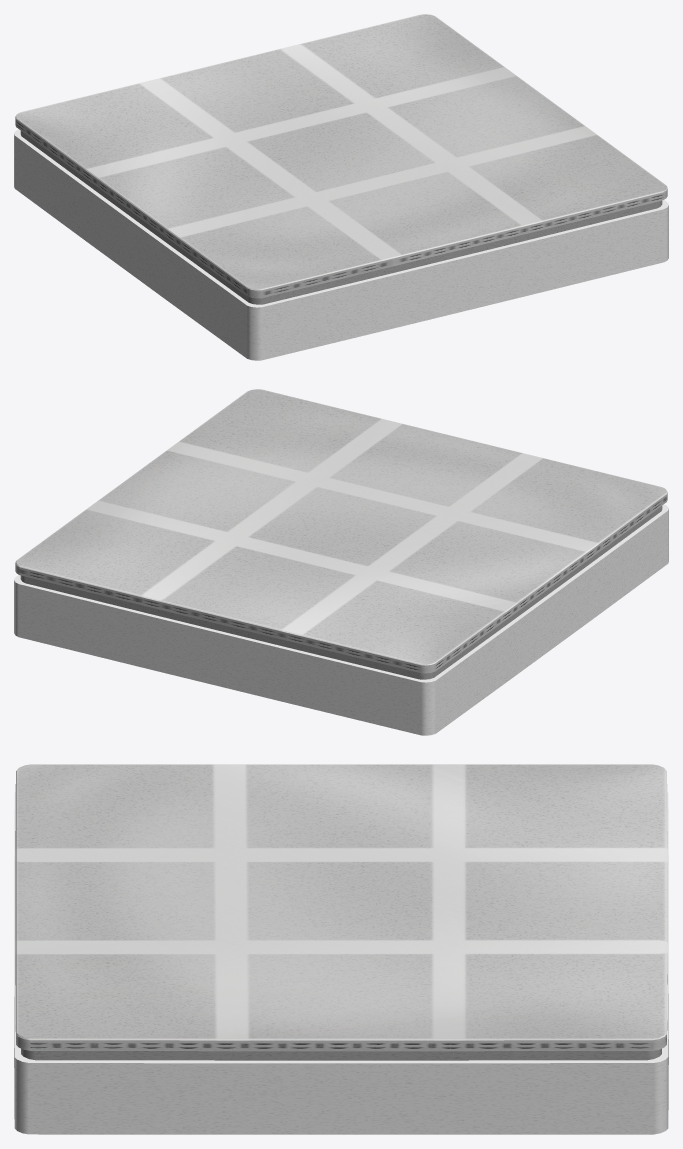
Rendered from Md_Hatch.fbx.
3 views of the same model, one above another, from view 1: azimuth 30°, elevation 25°; view 2: azimuth 150°, elevation 25°; view 3: azimuth 270°, elevation 25° (orthographic). The views are drawn at different scales.
Parts seen in each view (by area): view 1: pCube1; view 2: pCube1; view 3: pCube1.
Part boxes in pixels (x1,y1,x2,y2): pCube1: (14,14,668,360); pCube1: (14,389,668,735); pCube1: (14,764,668,1134).
Bounding box in the file's own units: 1004 × 160 × 1004.
